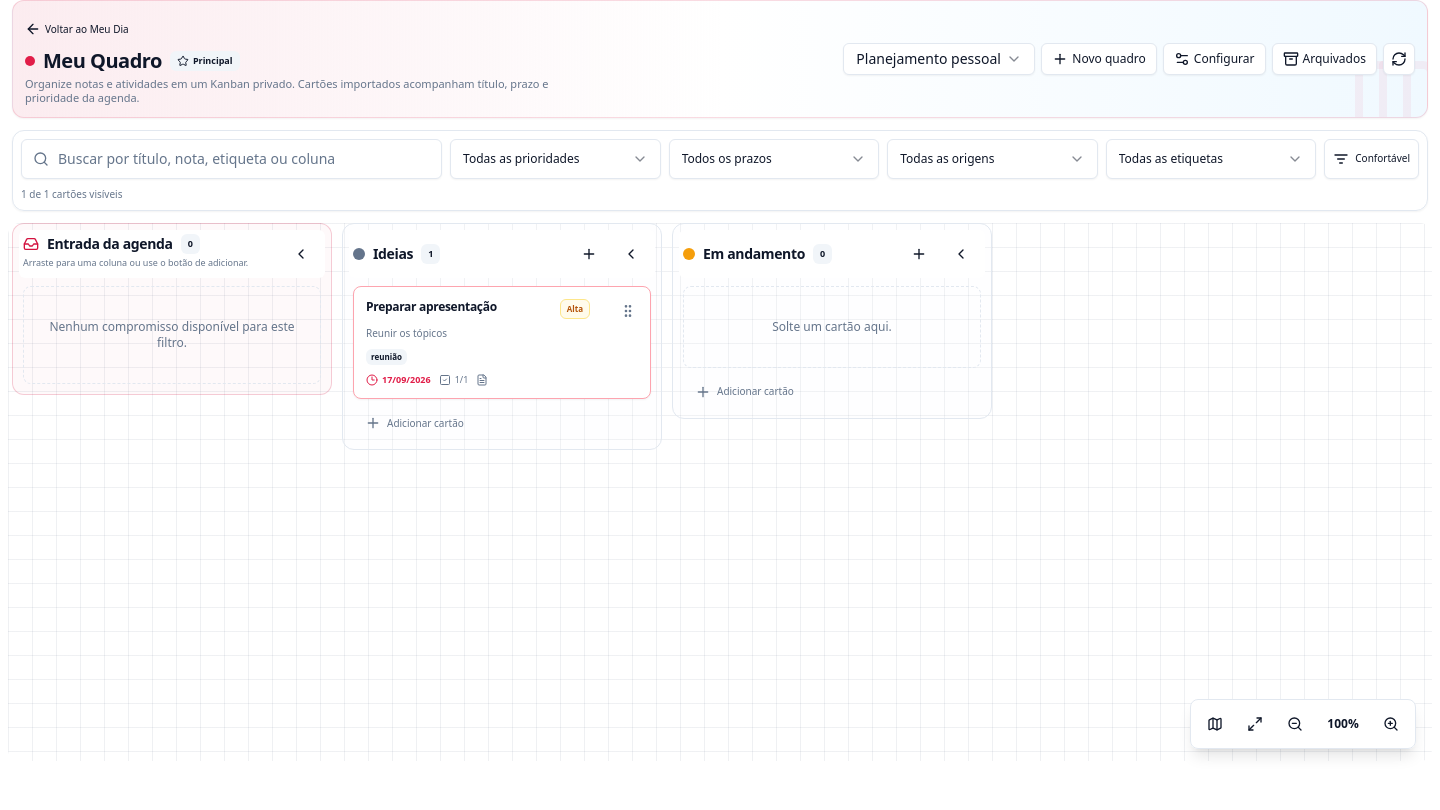
Test: Meu Quadro › recolhe colunas e persiste a visualização por usuário e quadro
Step 1. Click the button named "Recolher coluna Ideias" → (631, 254), box [611,234,651,274]
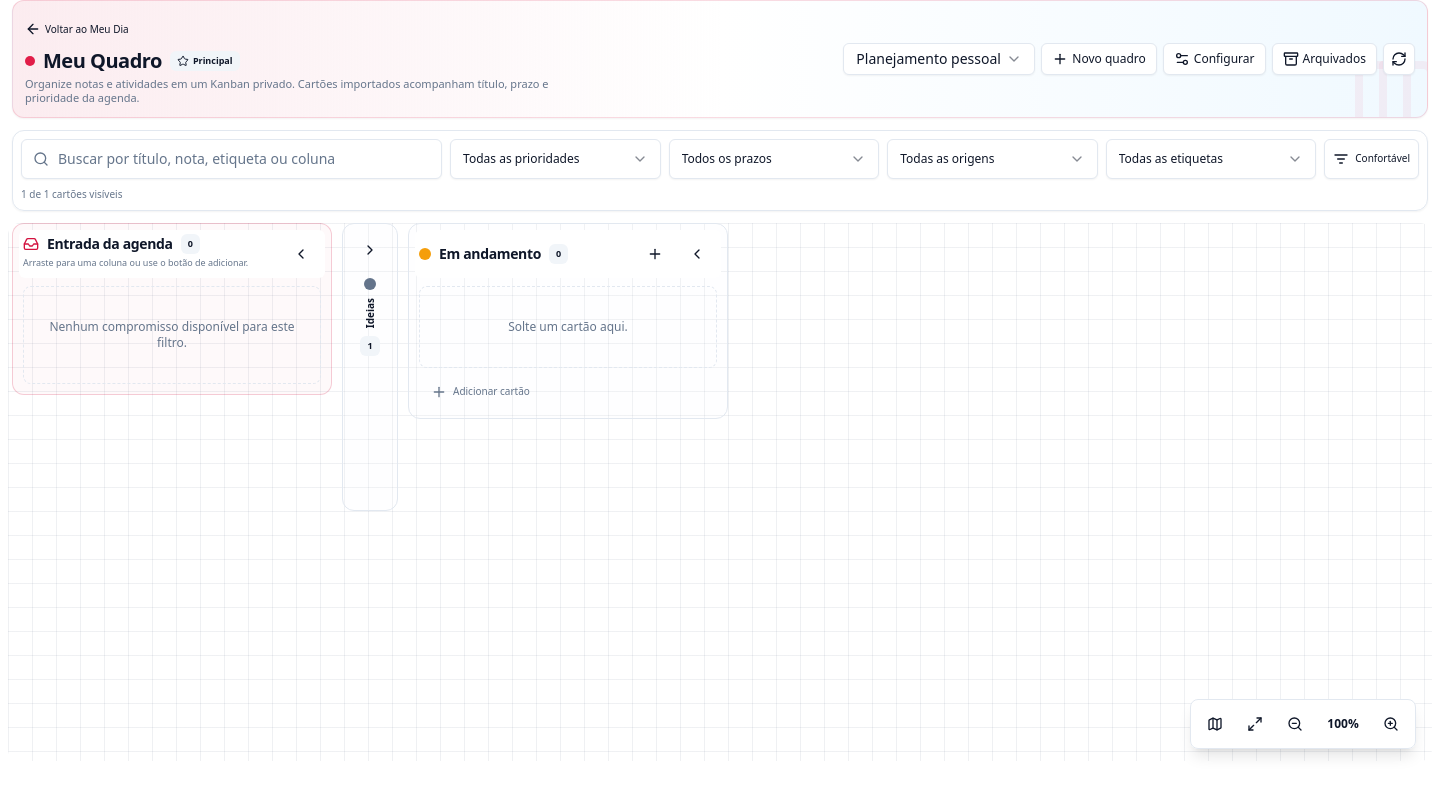
expect the button named "Expandir coluna Ideias" is shown: met, box [350,230,390,270]
